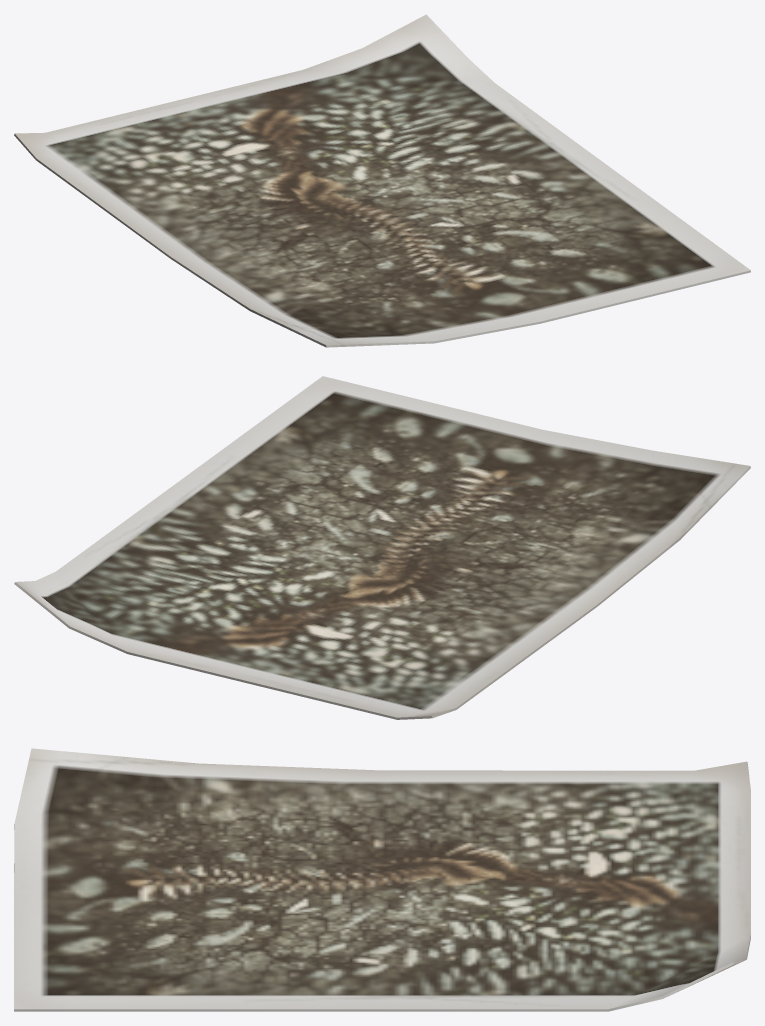
The model's file is Picture_11_Small.FBX.
3 renders of one model, top to bottom at view 1: azimuth 30°, elevation 25°; view 2: azimuth 150°, elevation 25°; view 3: azimuth 270°, elevation 25°, orthographic. The views are drawn at different scales.
Visible parts, largest first — view 1: Picture_11_Small; view 2: Picture_11_Small; view 3: Picture_11_Small.
Boxes of the visible parts, x1,y1,x2,y2 form: Picture_11_Small: [14, 14, 750, 347]; Picture_11_Small: [14, 376, 750, 719]; Picture_11_Small: [14, 748, 750, 1011].
Bounding box in the file's own units: 21.14 × 1.68 × 27.56.
